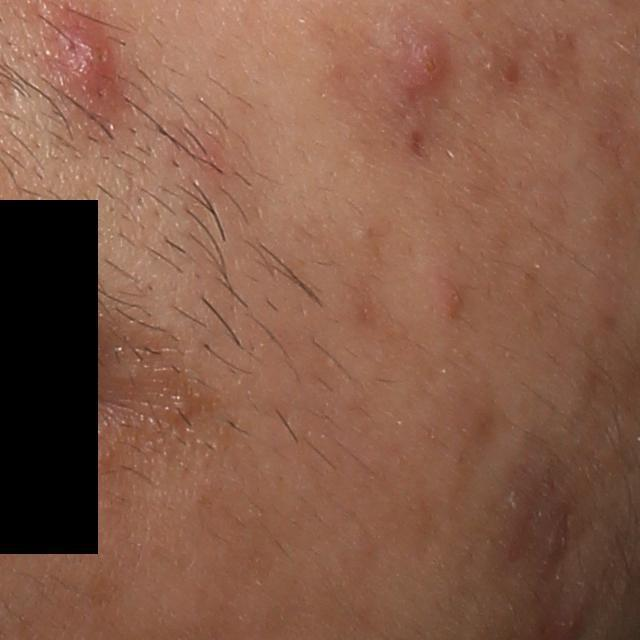papule: (47, 6, 122, 121), (395, 18, 460, 104), (557, 602, 582, 640)
